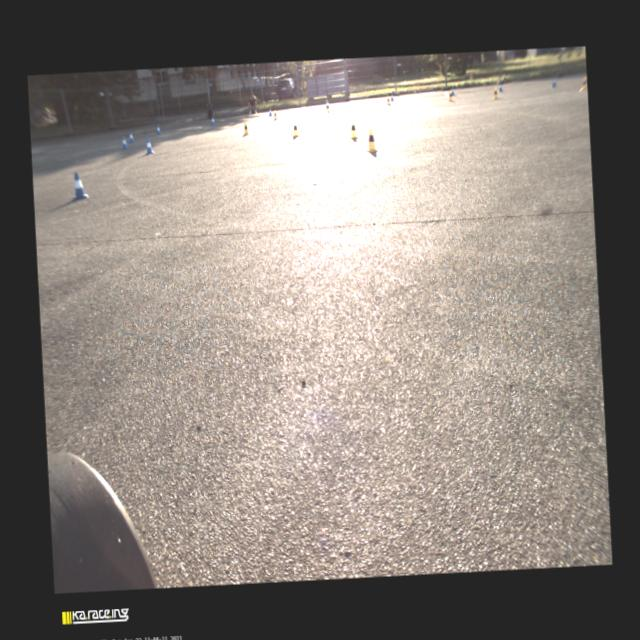blue_cone: (71, 171, 89, 200), (144, 138, 154, 154), (121, 135, 129, 150), (550, 75, 558, 88), (128, 130, 134, 144), (155, 124, 162, 135), (210, 115, 216, 126), (498, 81, 503, 93), (268, 107, 272, 117), (325, 100, 329, 110), (451, 86, 455, 96), (390, 92, 394, 101)
yellow_cone: (365, 128, 378, 153), (348, 120, 358, 140), (578, 74, 588, 92), (292, 122, 300, 137), (242, 121, 250, 136), (492, 86, 498, 100), (272, 109, 278, 120), (448, 90, 453, 102), (386, 94, 391, 106), (326, 103, 331, 113)
